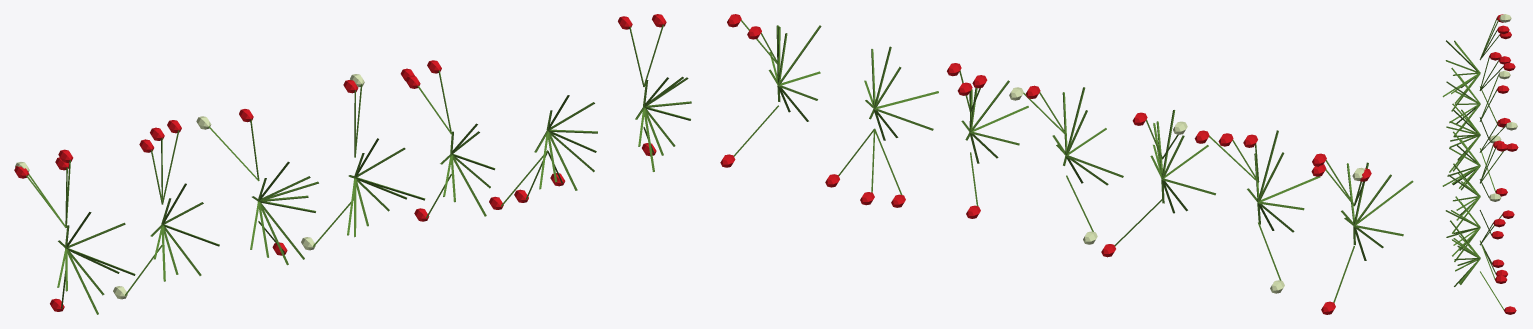
The model's file is r29c0_rest.obj.
3 views of the same model, side by side, from view 1: azimuth 30°, elevation 25°; view 2: azimuth 150°, elevation 25°; view 3: azimuth 270°, elevation 25° (orthographic). The views are drawn at different scales.
Visible parts, largest first — view 1: r29c0_rest; view 2: r29c0_rest; view 3: r29c0_rest.
Part boxes in pixels (x1,y1,x2,y2): r29c0_rest: (14, 14, 691, 314); r29c0_rest: (720, 14, 1413, 314); r29c0_rest: (1442, 14, 1518, 314).
Size of the model in its own units: 1.68 by 0.3998 by 0.2606.
